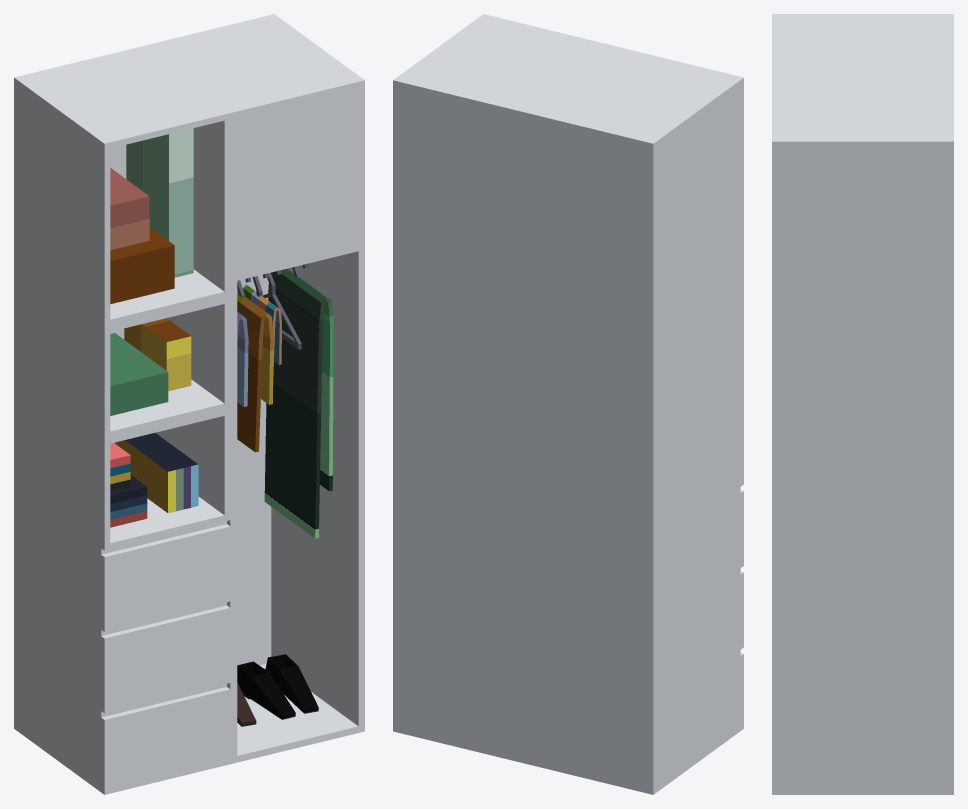
File: Building_ClosetA.glb
3 views of the same model, side by side, from view 1: azimuth 30°, elevation 25°; view 2: azimuth 150°, elevation 25°; view 3: azimuth 270°, elevation 25° (orthographic).
Visible parts, largest first — view 1: Building_ClosetA; view 2: Building_ClosetA; view 3: Building_ClosetA.
Part boxes in pixels (left/top/right/bottom): Building_ClosetA: left=14, top=14, right=364, bottom=794; Building_ClosetA: left=393, top=14, right=743, bottom=794; Building_ClosetA: left=772, top=14, right=953, bottom=794.
Size of the model in its own units: 0.996 by 2.38 by 0.6.
Materials: 1 (1 with a texture image).
